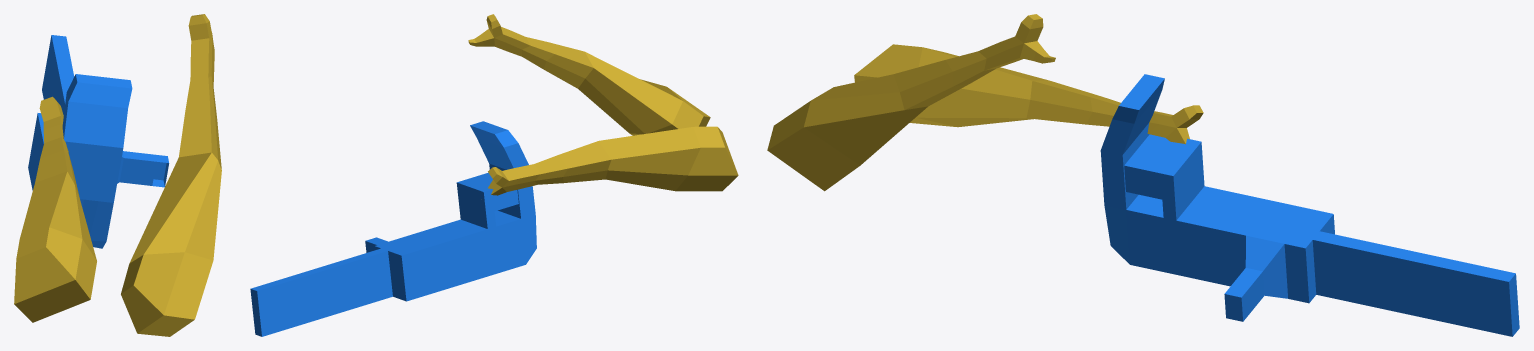
Rendered from arme_000053.obj.
3 views of the same model, side by side, from view 1: azimuth 30°, elevation 25°; view 2: azimuth 150°, elevation 25°; view 3: azimuth 270°, elevation 25° (orthographic). The views are drawn at different scales.
Parts seen in each view (by area): view 1: Cube.048_Cube.024, Cube.046_Cube.010; view 2: Cube.046_Cube.010, Cube.048_Cube.024; view 3: Cube.046_Cube.010, Cube.048_Cube.024.
Boxes of the visible parts, box(x1,y1,x2,y2) form: Cube.048_Cube.024: box(14, 14, 221, 336); Cube.046_Cube.010: box(28, 35, 169, 248); Cube.046_Cube.010: box(250, 121, 536, 336); Cube.048_Cube.024: box(468, 14, 738, 195); Cube.046_Cube.010: box(1100, 74, 1519, 336); Cube.048_Cube.024: box(767, 14, 1203, 191).
Size of the model in its own units: 1393 by 1062 by 2507.
